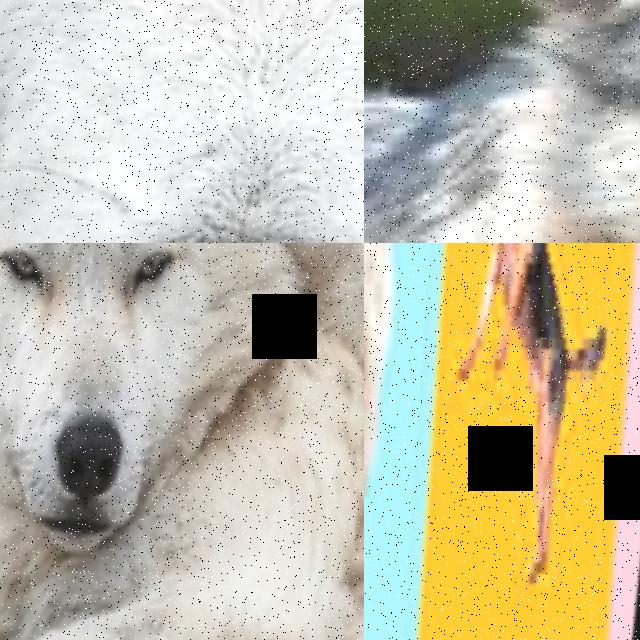dog: (421, 243, 640, 640), (364, 243, 433, 603)
wolf: (0, 243, 364, 640), (0, 0, 364, 243), (364, 0, 640, 243), (216, 243, 364, 481)
